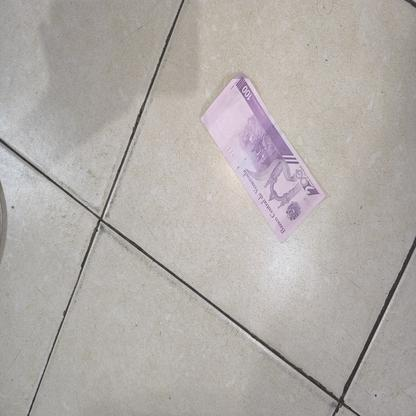one_hundred-back-vef: (199, 70, 327, 245)
